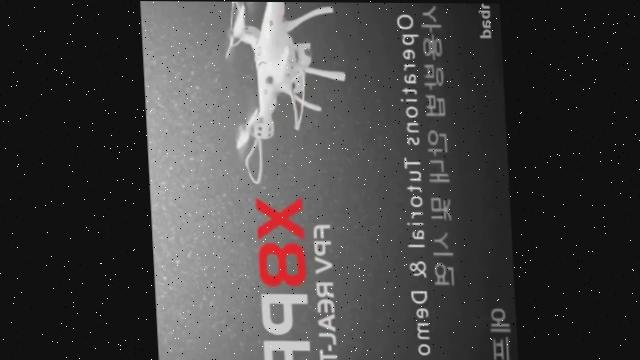drone: (222, 1, 348, 183)
